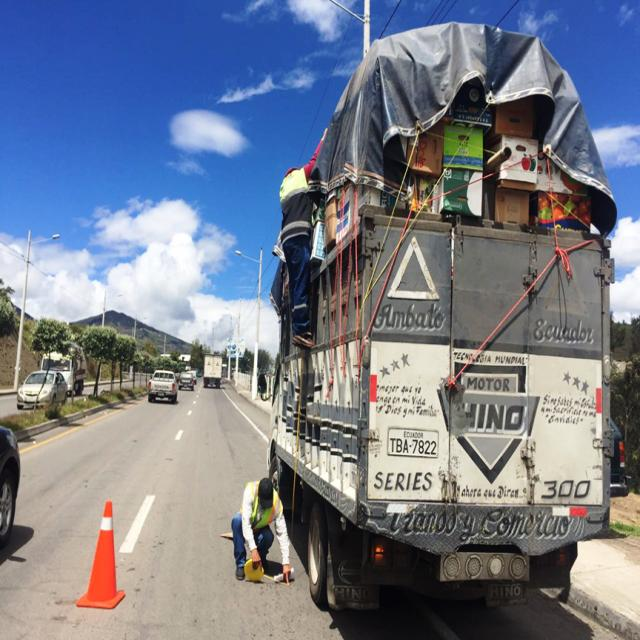CMT: (148, 365, 176, 403)
TRUCK: (268, 25, 624, 640), (204, 355, 222, 390)
